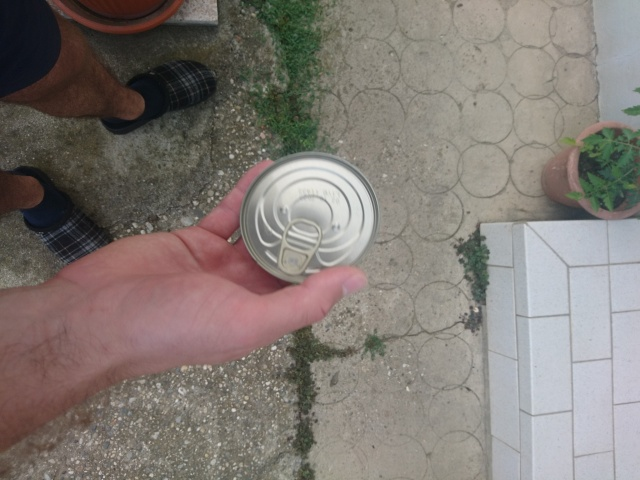Podravka Luncheon Meat 150g: (235, 148, 383, 288)
